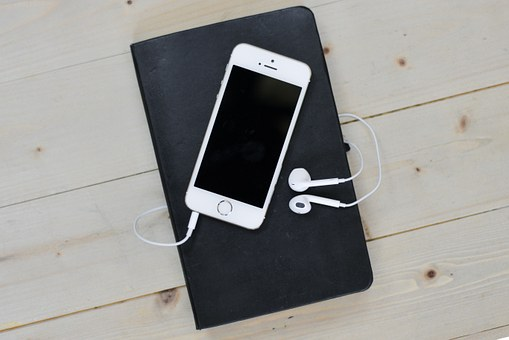mobile: (176, 39, 314, 233)
